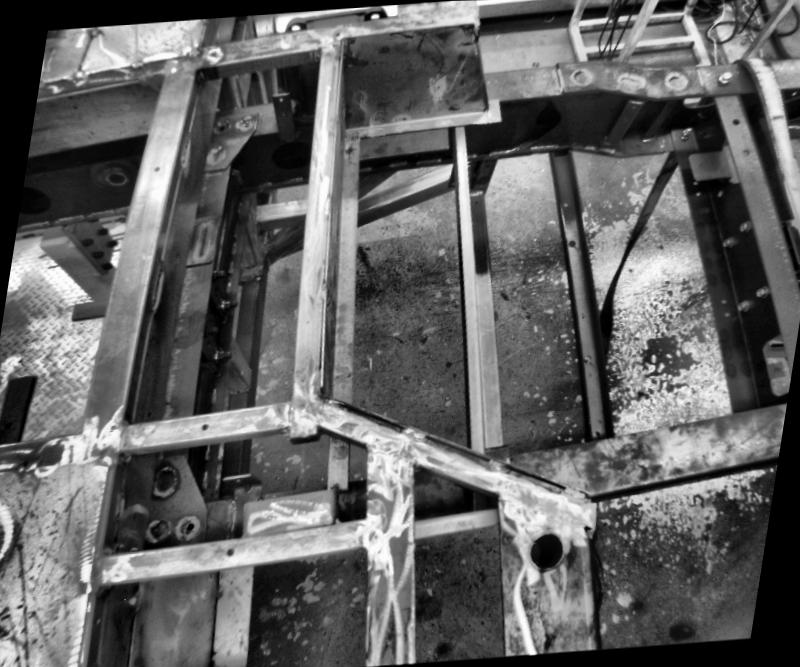bolt: (212, 346, 235, 360), (218, 296, 240, 310), (716, 70, 733, 87), (212, 264, 230, 280), (750, 284, 767, 300), (677, 124, 695, 138), (718, 237, 736, 250), (736, 222, 750, 235), (734, 300, 748, 311)
bracket: (676, 142, 736, 198), (749, 332, 796, 401), (0, 369, 41, 442), (264, 88, 309, 145), (68, 294, 114, 323)
hole: (524, 529, 568, 569), (4, 418, 20, 429), (222, 545, 236, 556), (584, 354, 594, 364), (593, 427, 602, 436), (201, 422, 210, 430), (153, 164, 162, 172), (186, 522, 195, 530), (568, 238, 577, 246), (732, 117, 741, 124), (563, 200, 572, 206), (280, 98, 286, 102), (474, 201, 477, 205)
